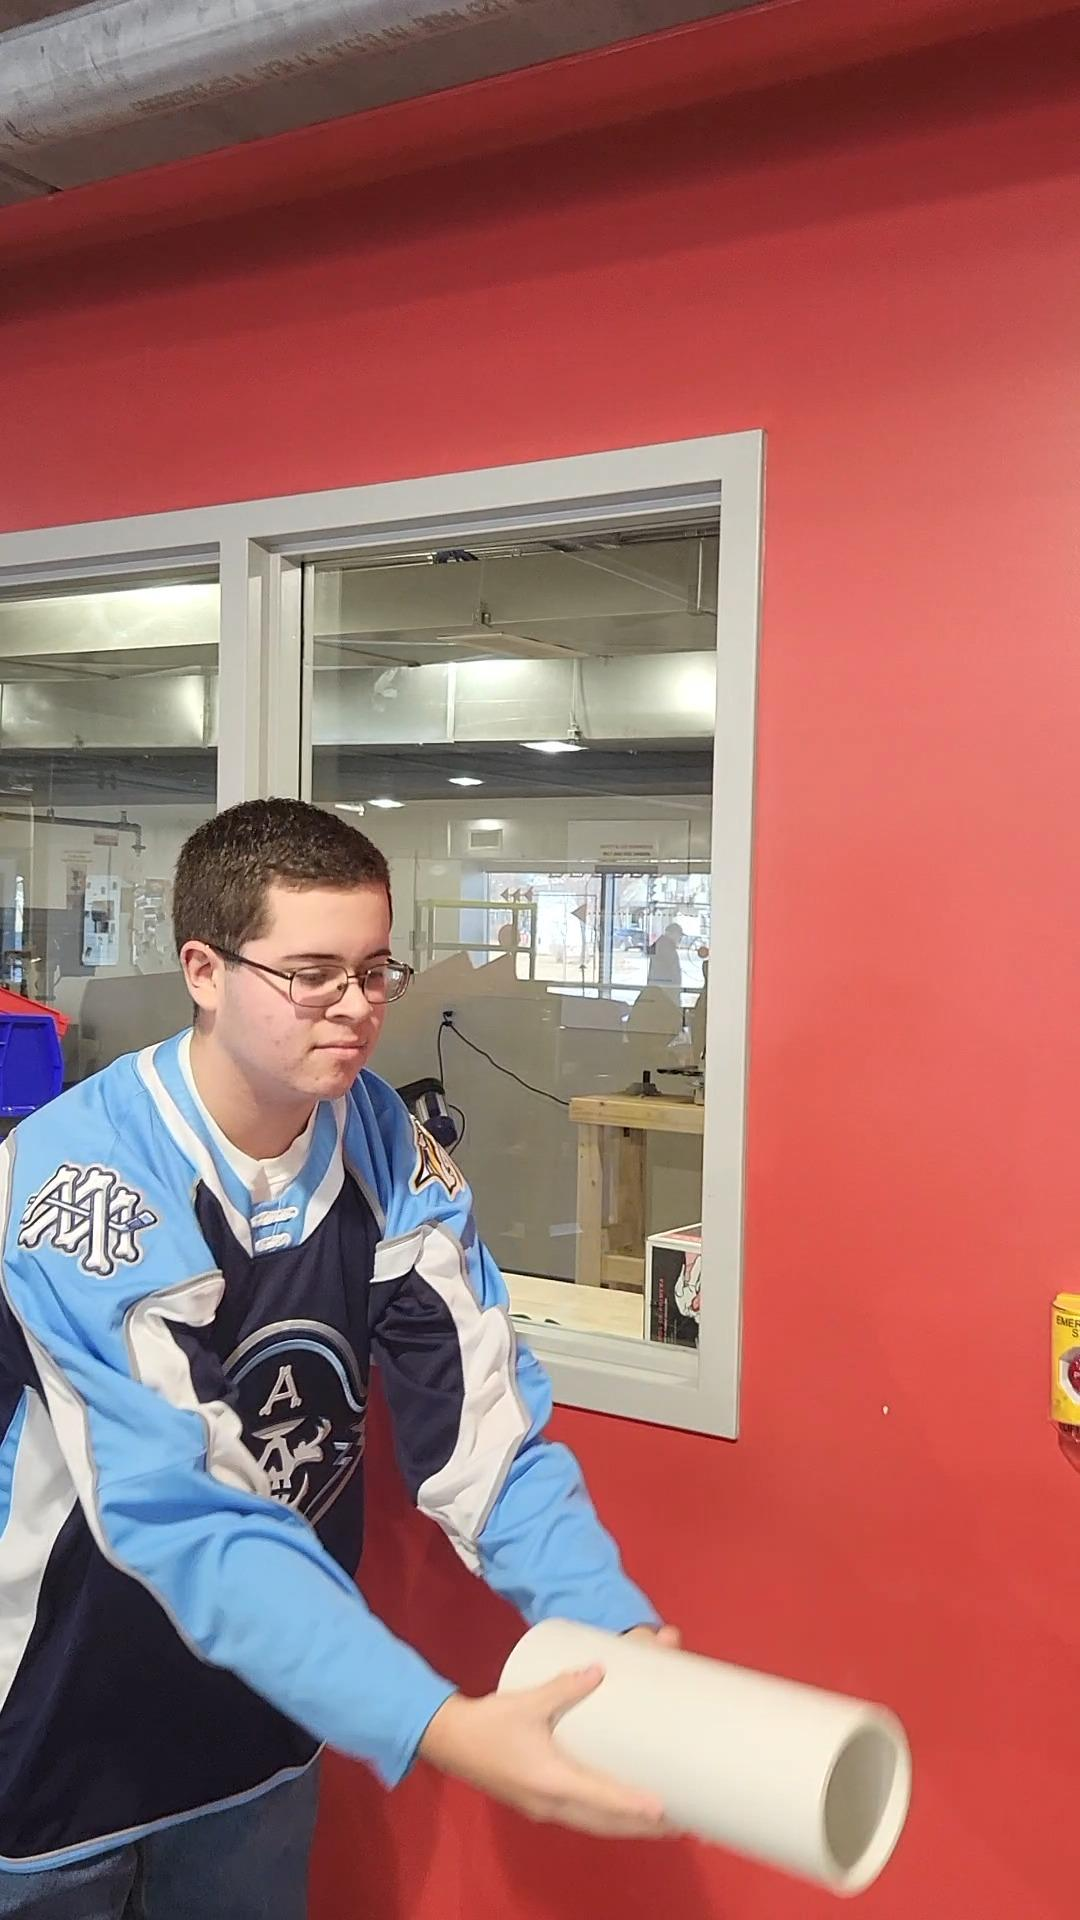coral: (500, 1614, 914, 1894)
